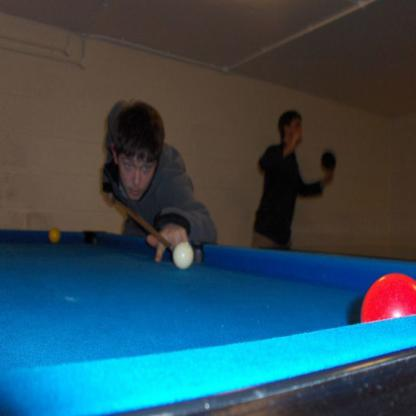Ball: (360, 272, 416, 325), (172, 240, 194, 270), (48, 225, 61, 243)
